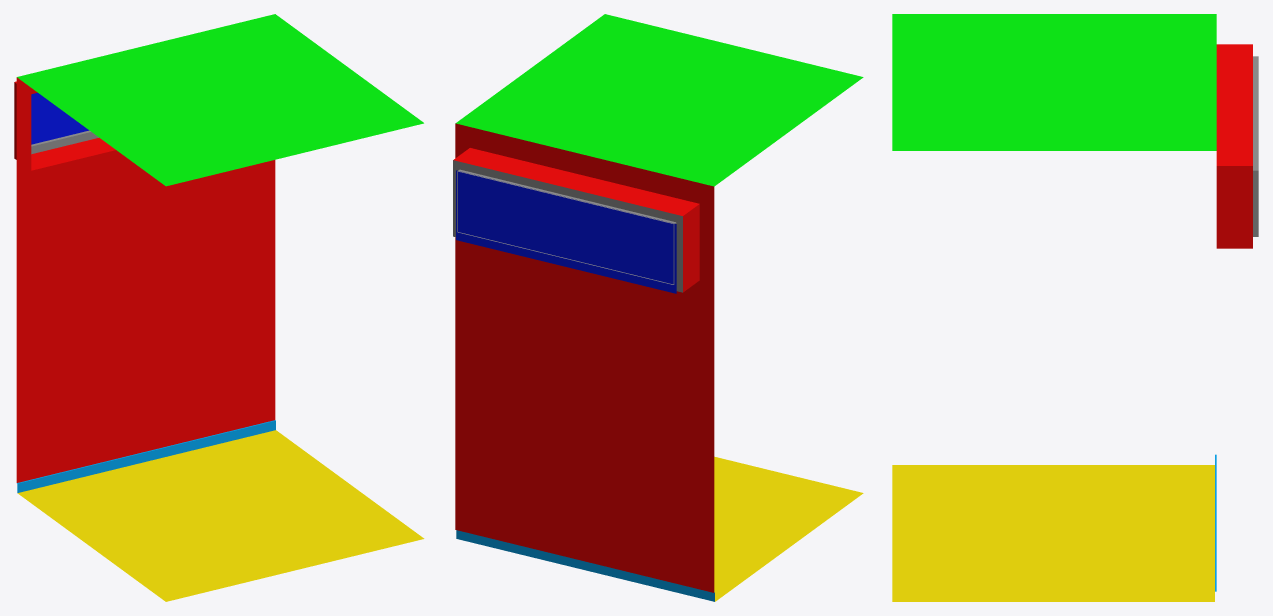
Rendered from SM_Window_B.FBX.
3 renders of one model, left to right at view 1: azimuth 30°, elevation 25°; view 2: azimuth 150°, elevation 25°; view 3: azimuth 270°, elevation 25°, orthographic. The views are drawn at different scales.
Visible parts, largest first — view 1: SM_Window_B, SM_Glass_B; view 2: SM_Window_B, SM_Glass_B; view 3: SM_Window_B.
Boxes of the visible parts, box(x1,y1,x2,y2) form: SM_Window_B: box(14, 14, 424, 601); SM_Glass_B: box(31, 92, 89, 144); SM_Window_B: box(453, 14, 863, 601); SM_Glass_B: box(456, 170, 676, 293); SM_Window_B: box(892, 14, 1258, 601).
Bounding box in the file's own units: 2 × 3.07 × 2.26.
